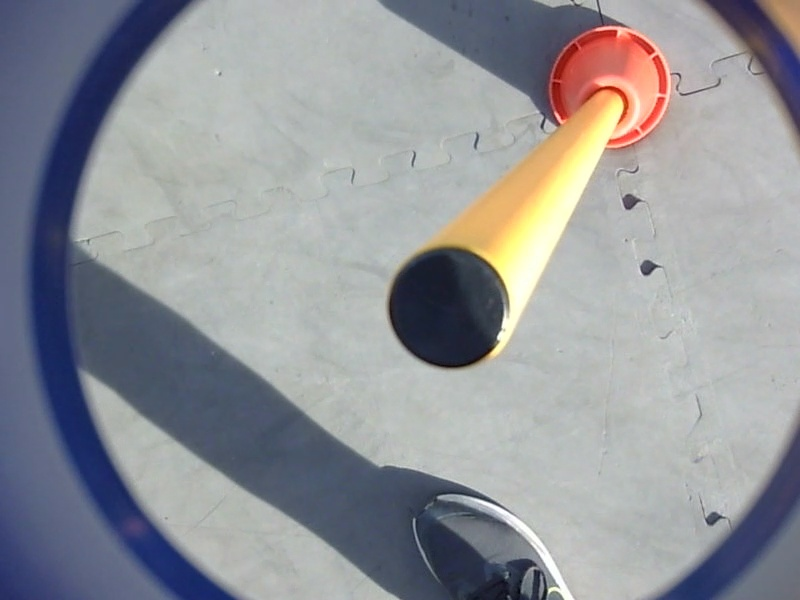tip: (380, 240, 520, 378)
